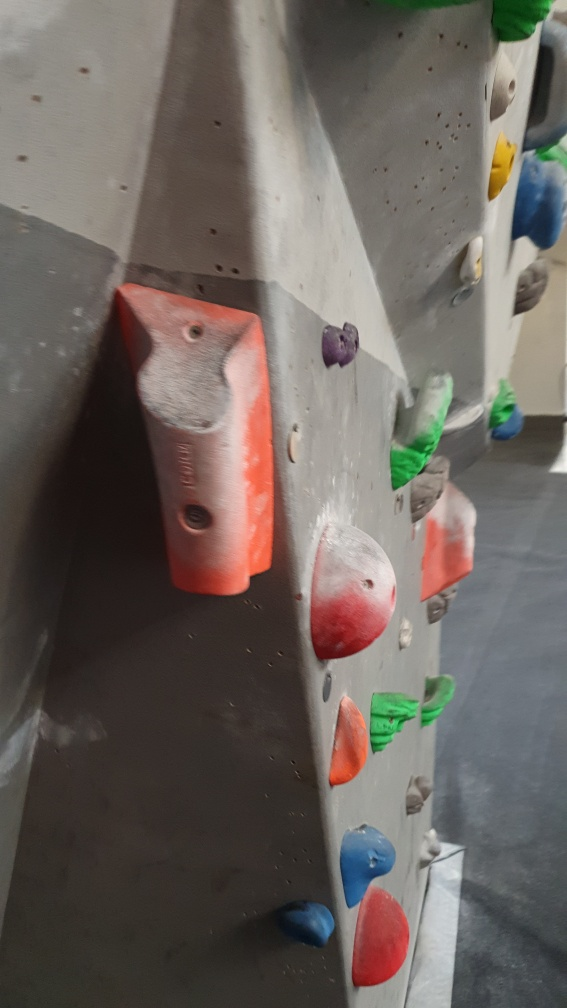Pinch: (110, 273, 281, 606)
Sloper: (304, 517, 400, 665), (346, 885, 416, 990)
